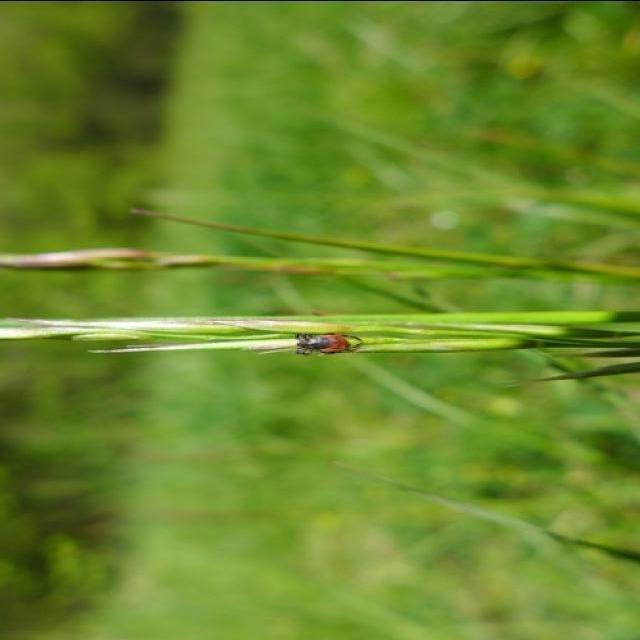Ixodes Ricinus-F: (293, 328, 370, 356)
